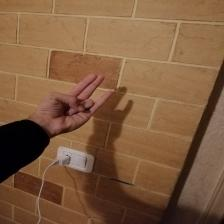five: (35, 68, 119, 137)
